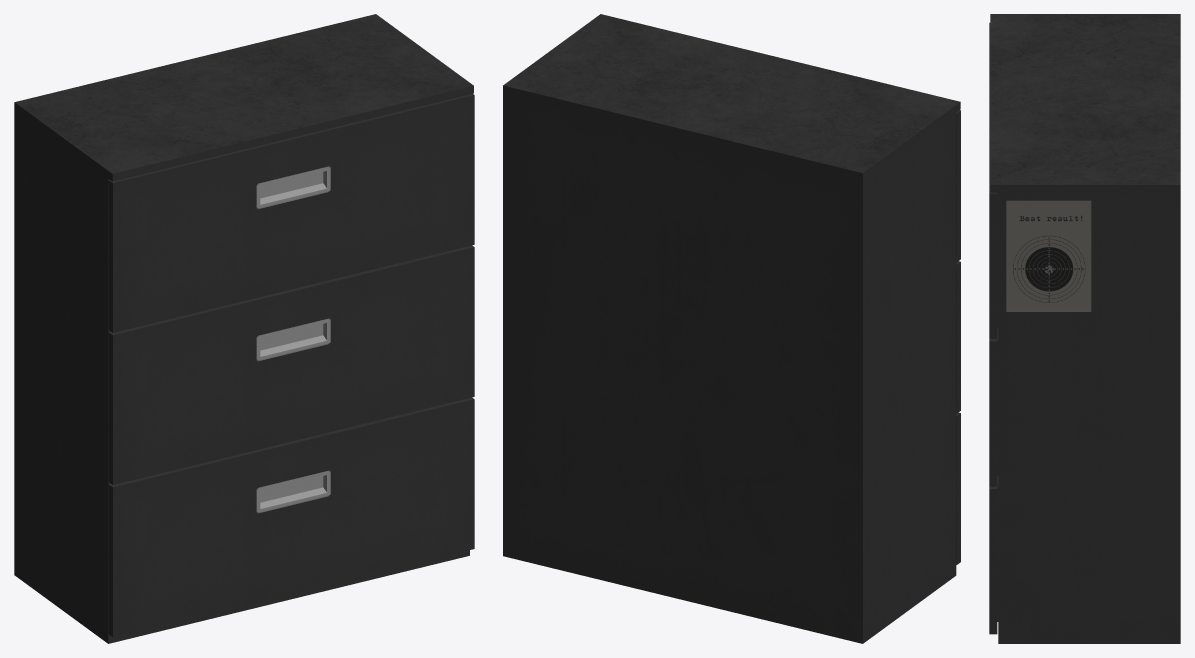
Rendered from Cabinet_2.FBX.
3 renders of one model, left to right at view 1: azimuth 30°, elevation 25°; view 2: azimuth 150°, elevation 25°; view 3: azimuth 270°, elevation 25°, orthographic. The views are drawn at different scales.
Parts seen in each view (by area): view 1: Cabinet_2, Drawer_03, Drawer_02, Drawer_01; view 2: Cabinet_2, Drawer_03, Drawer_02, Drawer_01; view 3: Cabinet_2, Drawer_01, Drawer_03, Drawer_02.
Boxes of the visible parts, box(x1,y1,x2,y2) form: Cabinet_2: box(14, 14, 473, 643); Drawer_03: box(108, 397, 474, 636); Drawer_02: box(108, 245, 474, 484); Drawer_01: box(108, 93, 474, 332); Cabinet_2: box(503, 14, 960, 643); Drawer_03: box(956, 412, 960, 564); Drawer_02: box(956, 261, 960, 413); Drawer_01: box(956, 110, 960, 262); Cabinet_2: box(990, 14, 1180, 643); Drawer_01: box(989, 22, 998, 338); Drawer_03: box(989, 476, 998, 634); Drawer_02: box(989, 328, 998, 486).
Size of the model in its own units: 101 by 125 by 47.2.
